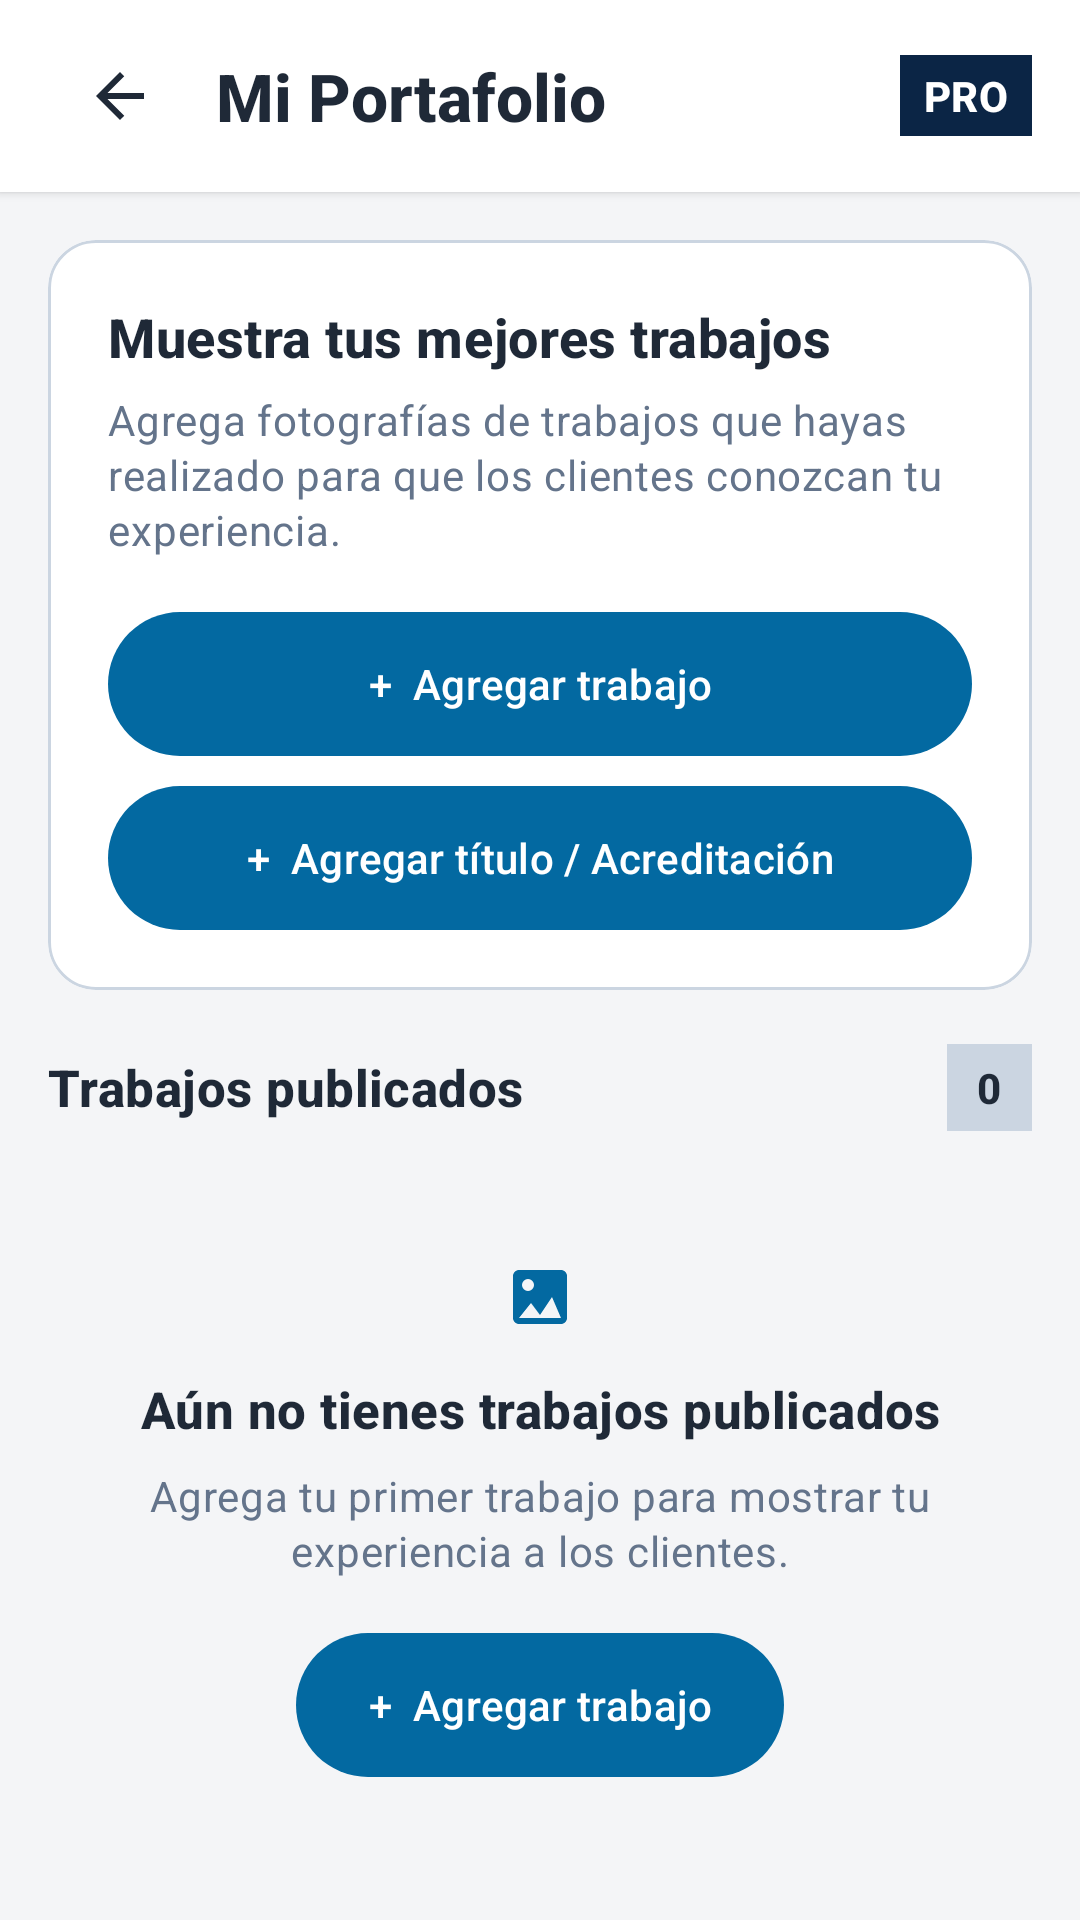

Locate icon controls on the screen. Image size 1080 x 1920, boxes as BBox(x1, y1, x2, y2).
Regresar: BBox(96, 72, 144, 120)
